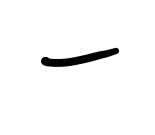minus: (41, 47, 120, 67)
